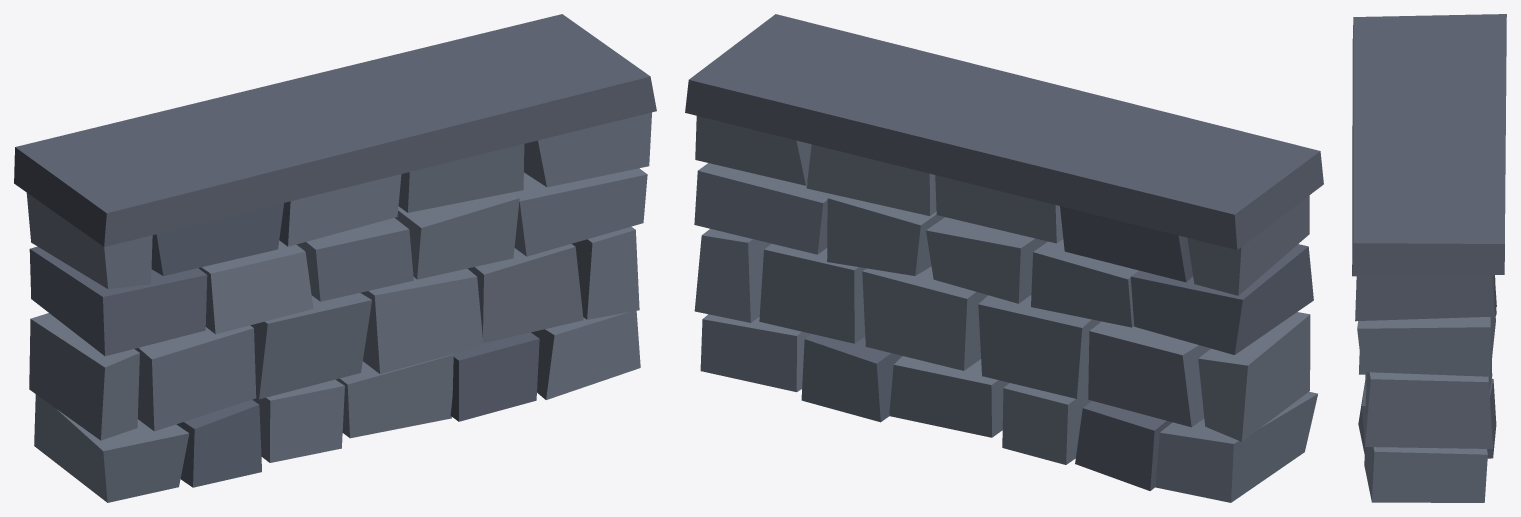
Rendered from stone_wall.glb.
The picture shows the model from 3 angles, left to right: view 1: azimuth 30°, elevation 25°; view 2: azimuth 150°, elevation 25°; view 3: azimuth 270°, elevation 25°; orthographic projection. The views are drawn at different scales.
Parts seen in each view (by area): view 1: stone_wall; view 2: stone_wall; view 3: stone_wall.
Boxes of the visible parts, x1,y1,x2,y2 form: stone_wall: [14, 14, 656, 502]; stone_wall: [685, 14, 1323, 502]; stone_wall: [1352, 14, 1506, 502].
Size of the model in its own units: 2.02 by 1.06 by 0.5656.
